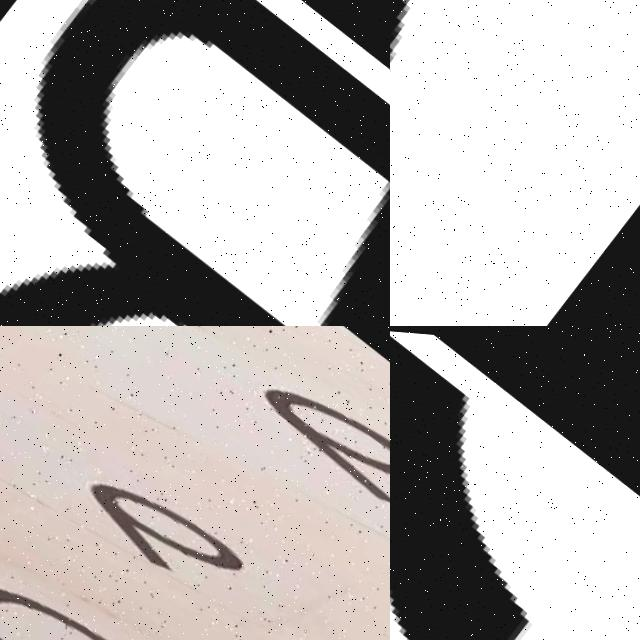0: (0, 506, 198, 640)
1: (390, 326, 637, 640)
9: (35, 412, 287, 635), (205, 326, 390, 562), (258, 326, 390, 422)
R: (0, 0, 390, 326)
